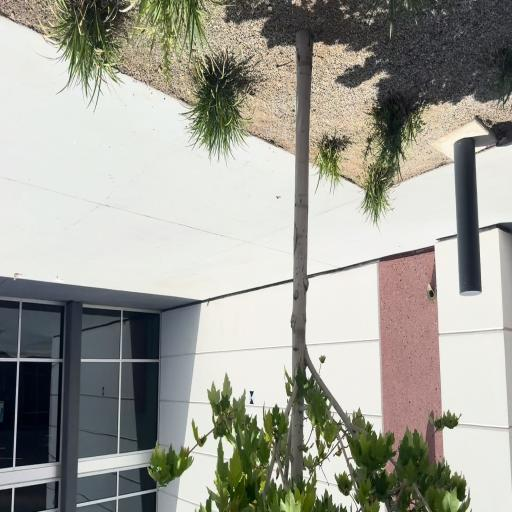target7: (249, 390, 254, 404)
